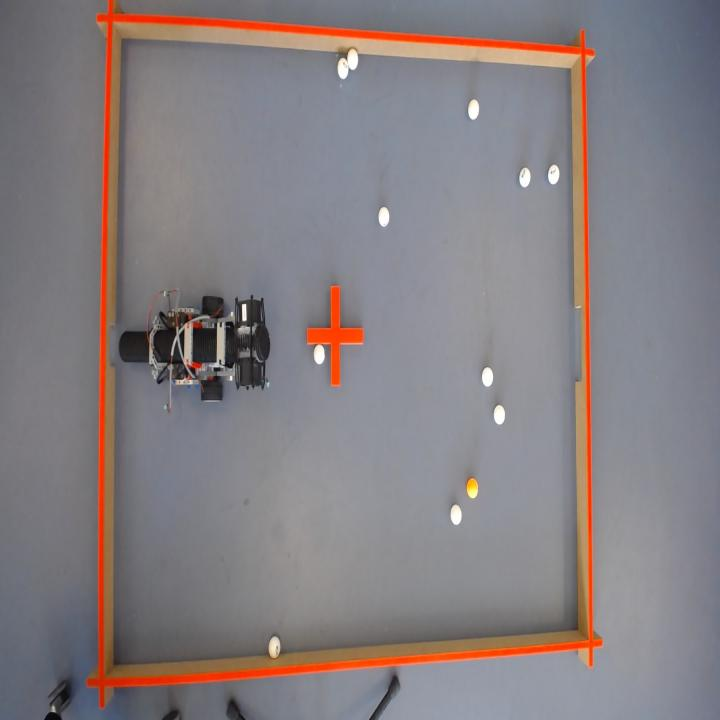orange: (467, 477, 479, 498)
robot: (118, 295, 270, 399)
white: (268, 635, 281, 659), (347, 45, 358, 68), (378, 205, 390, 226), (468, 97, 480, 118), (520, 165, 532, 186), (549, 163, 561, 184), (338, 55, 349, 77), (494, 404, 506, 424), (314, 343, 325, 364), (482, 367, 494, 386), (451, 505, 462, 525)
